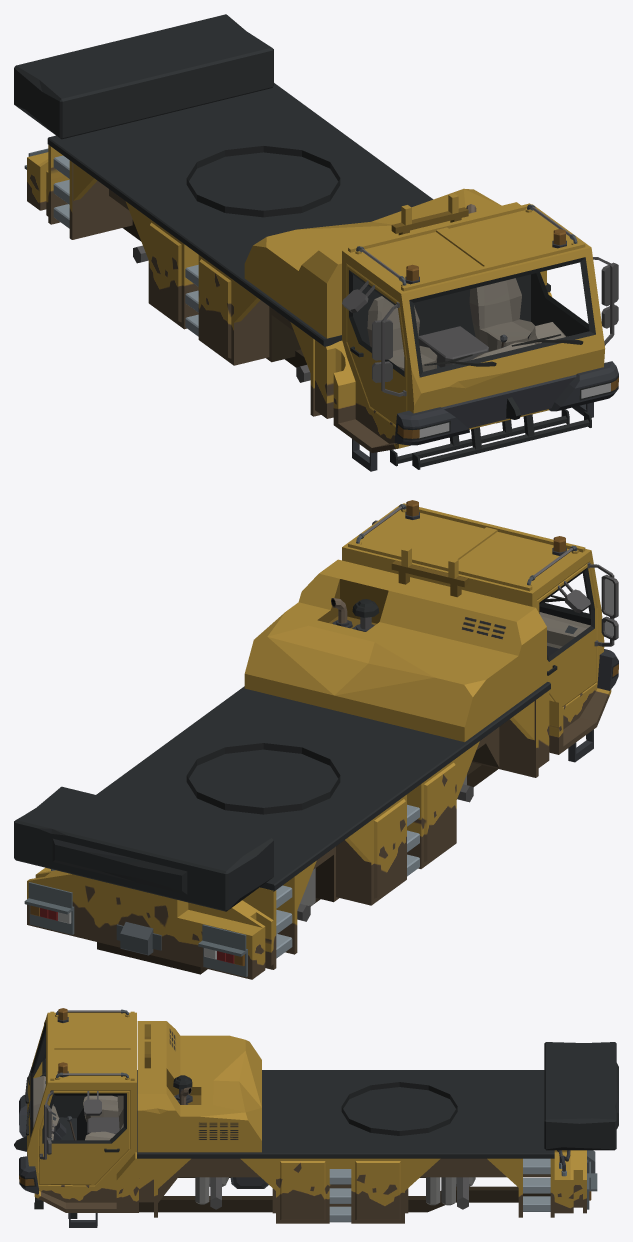
Rendered from SM_Veh_Crane_01.obj.
The picture shows the model from 3 angles, top to bottom: view 1: azimuth 30°, elevation 25°; view 2: azimuth 150°, elevation 25°; view 3: azimuth 270°, elevation 25°; orthographic projection. The views are drawn at different scales.
Parts seen in each view (by area): view 1: SM_Veh_Crane_01_0; view 2: SM_Veh_Crane_01_0; view 3: SM_Veh_Crane_01_0.
Part boxes in pixels (x1,y1,x2,y2): SM_Veh_Crane_01_0: [14, 14, 618, 471]; SM_Veh_Crane_01_0: [14, 500, 618, 979]; SM_Veh_Crane_01_0: [14, 1008, 618, 1227].
Bounding box in the file's own units: 3.49 × 2.89 × 9.82.
Materials: 1 (1 with a texture image).
